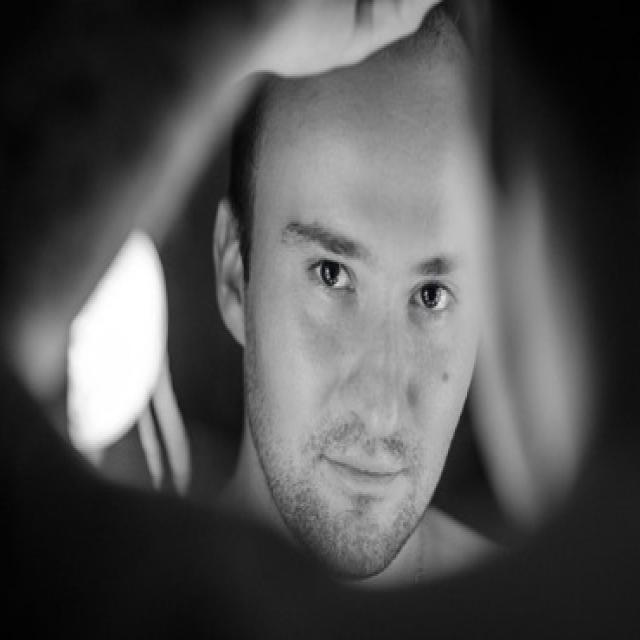adult: (197, 3, 528, 586)
